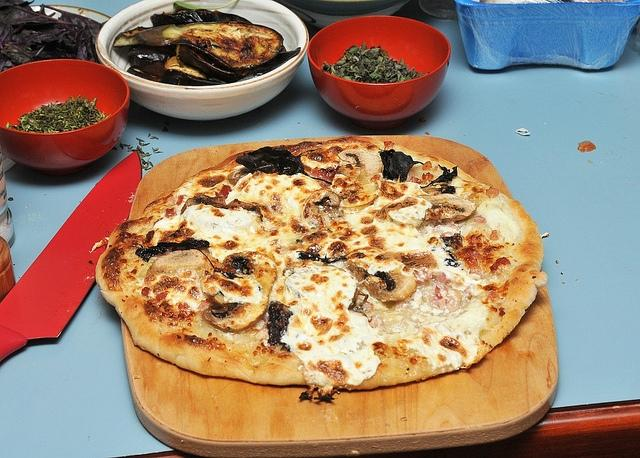eggplant: (135, 21, 284, 73), (176, 44, 235, 82), (164, 56, 207, 79), (114, 26, 158, 47), (150, 11, 205, 26), (158, 74, 190, 86)
mushroom: (180, 194, 264, 222), (363, 264, 417, 302), (146, 249, 215, 278), (419, 193, 476, 221), (338, 148, 382, 173), (220, 250, 256, 278), (312, 188, 339, 208), (324, 206, 332, 212)
